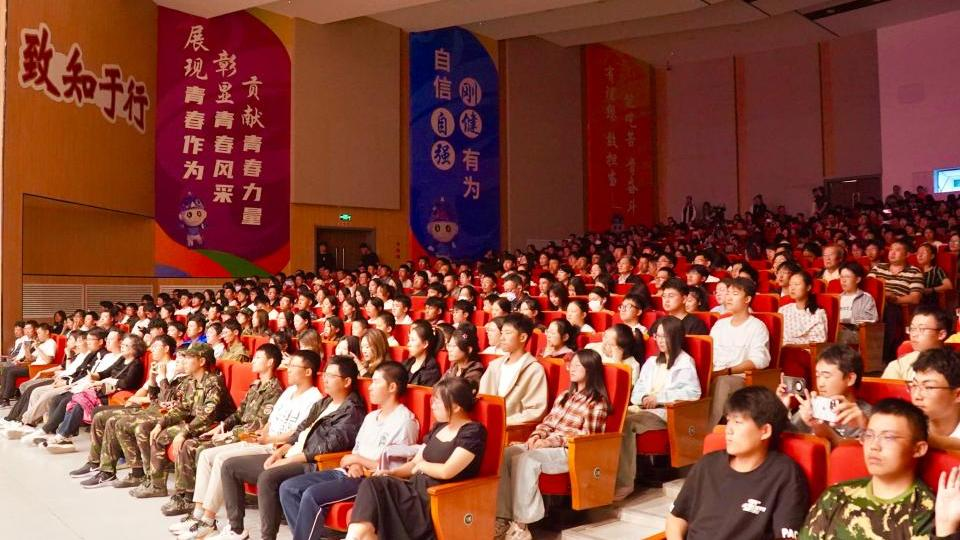persion: (862, 414, 921, 477), (901, 367, 960, 413), (723, 409, 770, 456), (814, 359, 858, 397), (907, 315, 945, 349), (370, 369, 398, 403), (323, 363, 351, 397), (725, 284, 753, 313), (288, 356, 313, 386), (431, 392, 451, 427), (653, 324, 671, 362), (568, 353, 588, 386), (602, 327, 623, 358), (662, 286, 687, 312), (502, 324, 527, 349), (788, 274, 812, 300), (840, 267, 863, 291), (408, 331, 429, 357), (547, 322, 569, 345), (619, 298, 642, 319), (253, 349, 273, 373), (503, 279, 523, 302), (185, 353, 206, 374), (889, 243, 910, 264), (448, 337, 465, 362), (360, 336, 376, 361), (566, 303, 586, 323), (822, 245, 839, 268), (151, 341, 169, 362), (104, 331, 121, 353), (487, 323, 502, 346), (120, 337, 137, 357), (684, 292, 701, 312), (686, 268, 707, 284), (918, 245, 935, 264), (424, 303, 443, 320), (324, 319, 341, 338), (452, 305, 468, 325), (588, 293, 606, 310), (481, 275, 497, 294), (491, 300, 508, 317), (376, 318, 393, 335), (87, 332, 103, 350), (618, 256, 634, 274), (175, 350, 188, 372), (714, 282, 727, 303), (222, 327, 238, 344), (521, 302, 538, 318), (392, 300, 408, 317), (279, 295, 294, 313), (352, 320, 368, 336), (205, 327, 220, 344), (294, 314, 309, 331), (322, 298, 336, 316), (298, 294, 312, 312), (187, 321, 202, 337), (657, 255, 673, 270), (342, 300, 356, 317), (778, 267, 791, 285), (365, 299, 378, 317), (36, 327, 50, 342), (657, 271, 671, 286), (549, 290, 562, 306), (730, 263, 742, 280), (277, 312, 289, 329), (77, 336, 88, 354), (168, 325, 182, 339), (866, 245, 878, 261), (538, 278, 550, 294), (252, 310, 262, 329), (639, 256, 650, 273), (335, 341, 348, 355), (772, 256, 786, 269), (556, 269, 571, 281), (255, 300, 270, 312), (99, 312, 111, 326), (236, 313, 250, 325), (299, 341, 314, 352), (13, 325, 25, 338), (459, 272, 471, 285), (25, 324, 36, 338), (949, 235, 960, 249), (151, 326, 163, 338), (66, 337, 77, 350), (84, 313, 95, 326), (238, 290, 249, 303), (591, 265, 601, 278), (221, 313, 234, 323), (74, 311, 83, 325), (268, 287, 277, 301), (369, 280, 377, 294), (925, 228, 934, 240), (568, 285, 576, 298), (68, 318, 74, 330), (55, 312, 62, 322)
